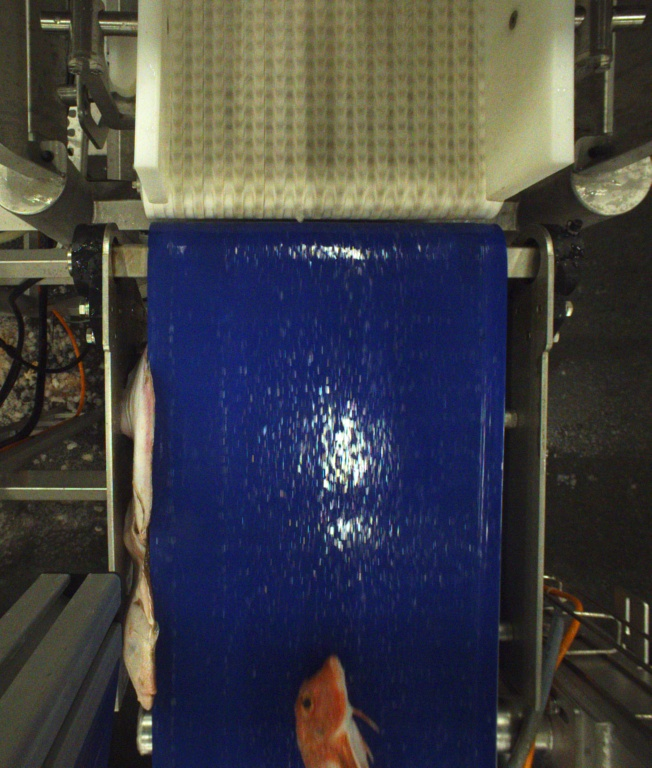GUU: (294, 654, 384, 768)
